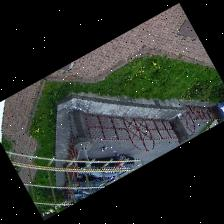person: (114, 162, 121, 167)
